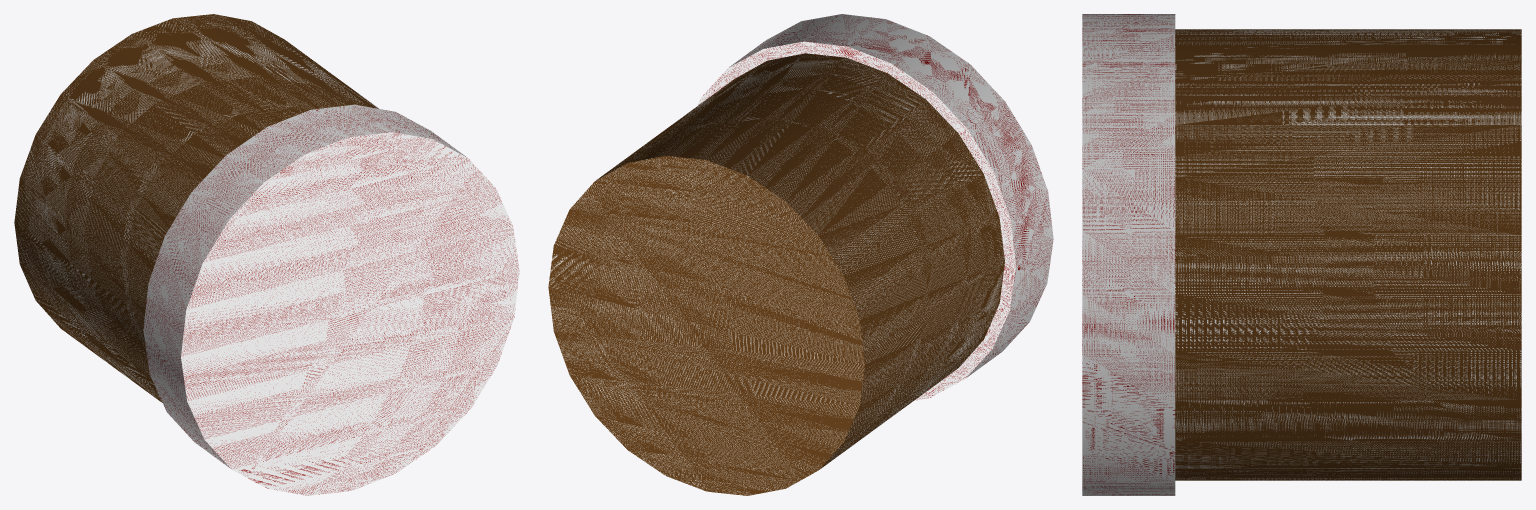
Rendered from model_scale.obj.
The picture shows the model from 3 angles, left to right: view 1: azimuth 30°, elevation 25°; view 2: azimuth 150°, elevation 25°; view 3: azimuth 270°, elevation 25°; orthographic projection. The views are drawn at different scales.
Parts seen in each view (by area): view 1: mesh1_mesh1-geometry; view 2: mesh1_mesh1-geometry; view 3: mesh1_mesh1-geometry.
Part boxes in pixels (x1,y1,x2,y2): mesh1_mesh1-geometry: (14, 14, 519, 495); mesh1_mesh1-geometry: (548, 14, 1053, 495); mesh1_mesh1-geometry: (1082, 14, 1521, 495).
Bounding box in the file's own units: 0.0921 × 0.0921 × 0.0836.
